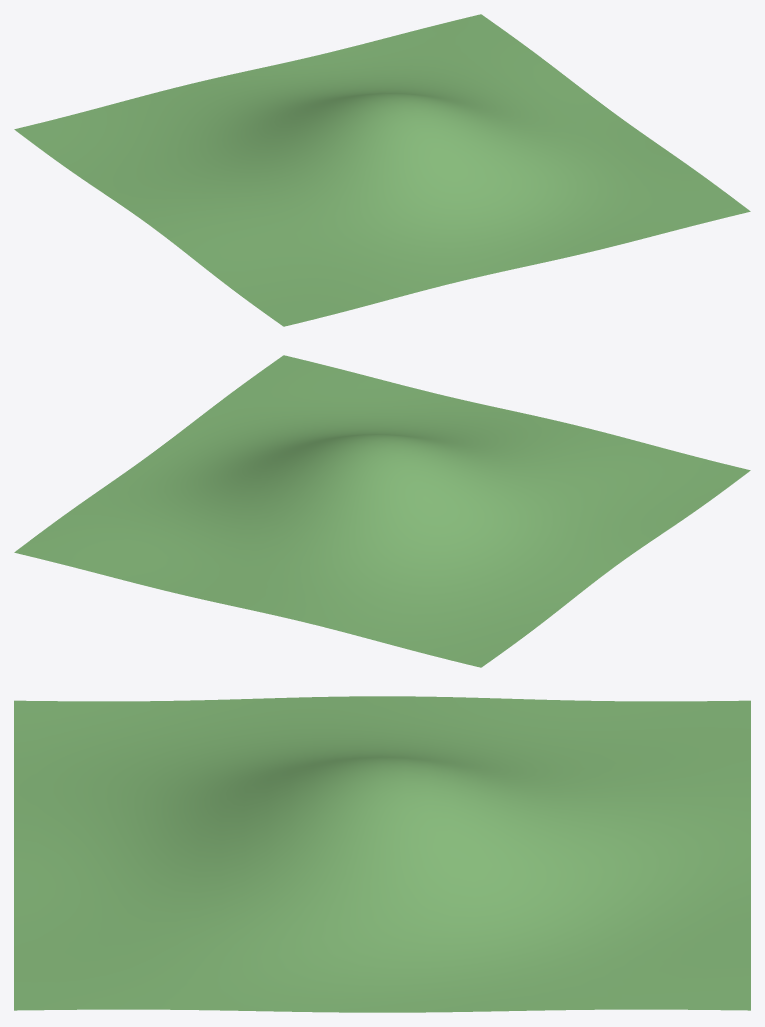
The model's file is rolling_hills_test.glb.
3 renders of one model, top to bottom at view 1: azimuth 30°, elevation 25°; view 2: azimuth 150°, elevation 25°; view 3: azimuth 270°, elevation 25°, orthographic. The views are drawn at different scales.
Parts seen in each view (by area): view 1: WALKABLE_Mountain_Test; view 2: WALKABLE_Mountain_Test; view 3: WALKABLE_Mountain_Test.
Boxes of the visible parts, <box> form: WALKABLE_Mountain_Test: <box>14,14,750,326</box>; WALKABLE_Mountain_Test: <box>14,355,750,667</box>; WALKABLE_Mountain_Test: <box>14,696,750,1012</box>.
Size of the model in its own units: 44 by 5.62 by 44.
